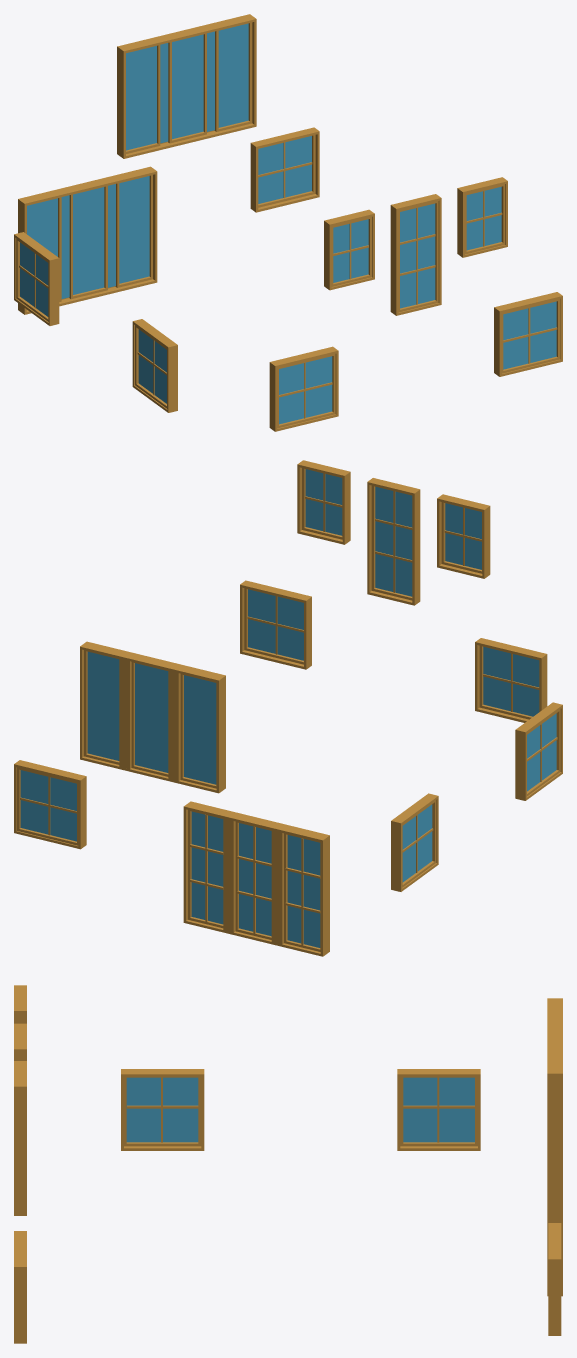
Rendered from windows.obj.
3 views of the same model, one above another, from view 1: azimuth 30°, elevation 25°; view 2: azimuth 150°, elevation 25°; view 3: azimuth 270°, elevation 25° (orthographic). The views are drawn at different scales.
Parts seen in each view (by area): view 1: windows; view 2: windows; view 3: windows.
Boxes of the visible parts, x1,y1,x2,y2 form: windows: (14, 14, 562, 431); windows: (14, 460, 562, 956); windows: (14, 985, 562, 1343).
Size of the model in its own units: 7.99 by 5.24 by 9.35.
